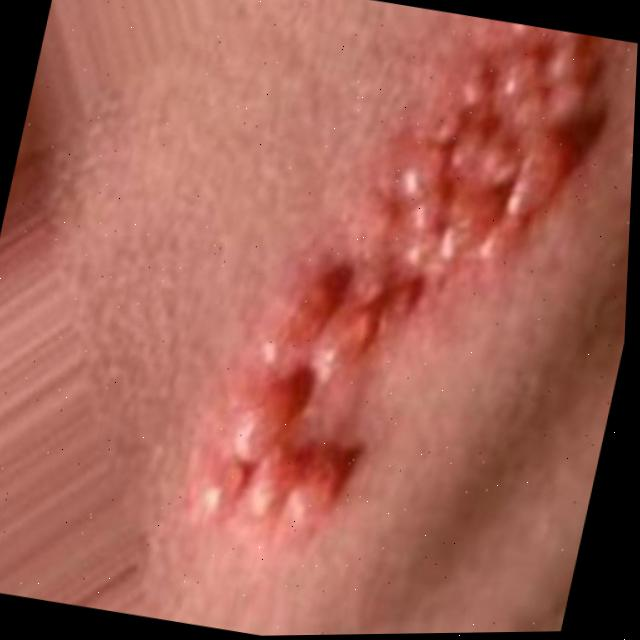Shingles: (188, 0, 623, 583)
